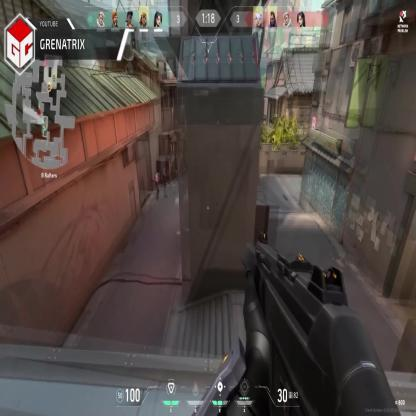enemy: (154, 168, 160, 199)
enemy_head: (158, 170, 160, 176)
